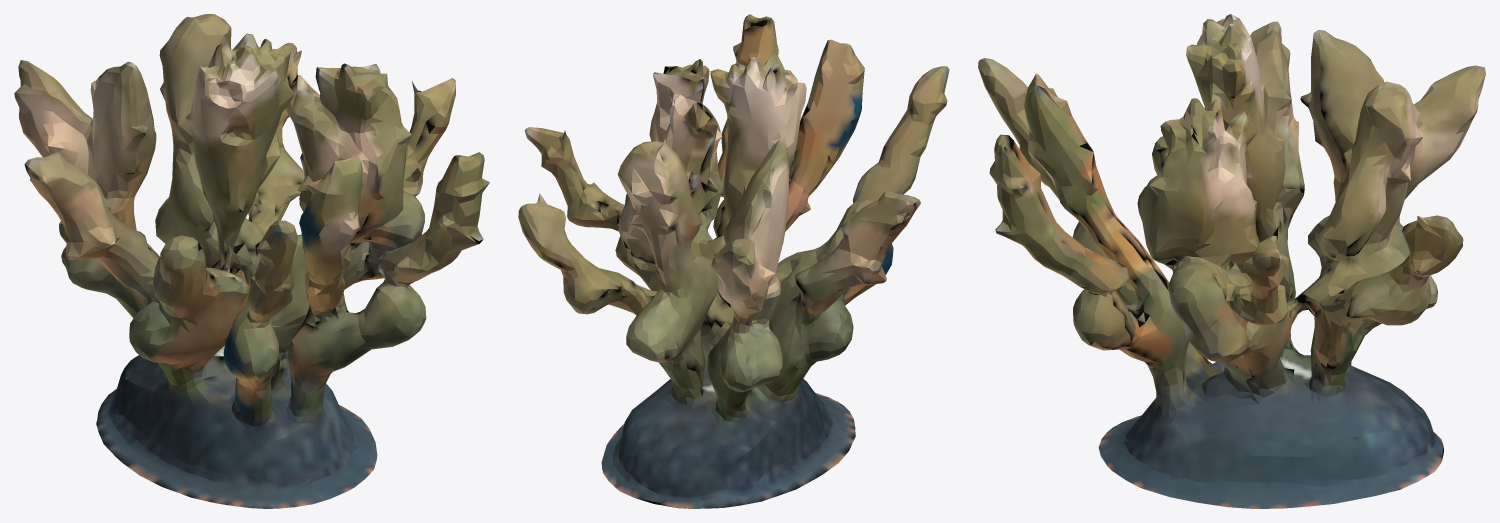
File: Plant4.glb
3 views of the same model, side by side, from view 1: azimuth 30°, elevation 25°; view 2: azimuth 150°, elevation 25°; view 3: azimuth 270°, elevation 25° (orthographic). The views are drawn at different scales.
Visible parts, largest first — view 1: model.012_LOD0; view 2: model.012_LOD0; view 3: model.012_LOD0.
Boxes of the visible parts, left/top/right/bottom form: model.012_LOD0: left=14, top=14, right=489, bottom=508; model.012_LOD0: left=518, top=14, right=949, bottom=508; model.012_LOD0: left=978, top=14, right=1485, bottom=508.
Size of what is drawn, in the model's own units: 0.3715 by 0.3467 by 0.3755.
1 material, 1 textured.
